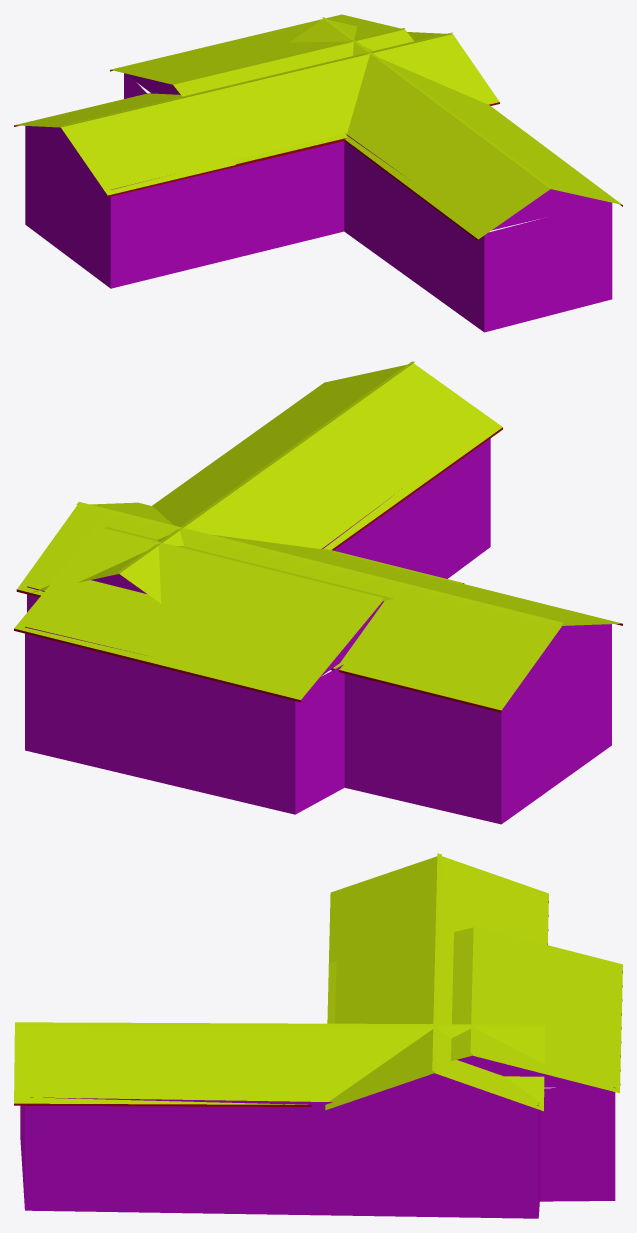
File: rmc_151.glb
The picture shows the model from 3 angles, top to bottom: view 1: azimuth 30°, elevation 25°; view 2: azimuth 150°, elevation 25°; view 3: azimuth 270°, elevation 25°; orthographic projection. The views are drawn at different scales.
Visible parts, largest first — view 1: rmc_151; view 2: rmc_151; view 3: rmc_151.
Part boxes in pixels (x1,y1,x2,y2): rmc_151: [14, 14, 622, 332]; rmc_151: [14, 361, 622, 824]; rmc_151: [14, 853, 622, 1218].
Bounding box in the file's own units: 26.8 × 8.6 × 31.53.
